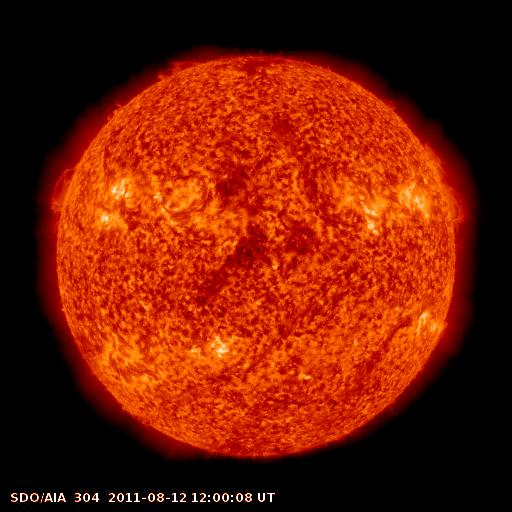prominence: (416, 137, 475, 228), (42, 158, 86, 219), (153, 54, 207, 89), (97, 94, 133, 129)
